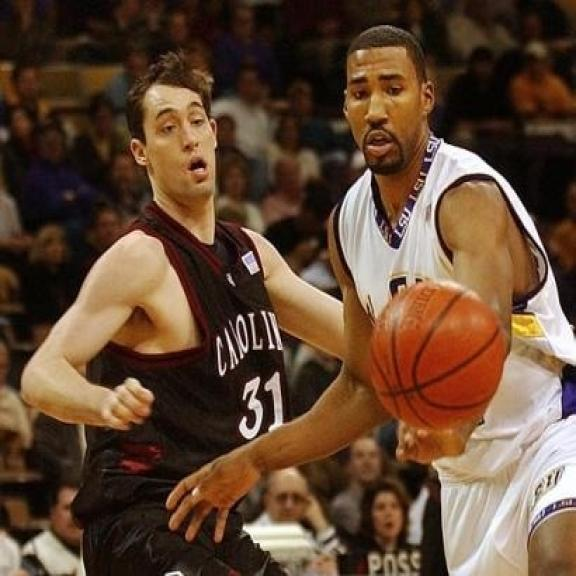face: (338, 43, 440, 176), (126, 72, 221, 204), (265, 466, 313, 524), (367, 483, 406, 543), (350, 434, 388, 482)
